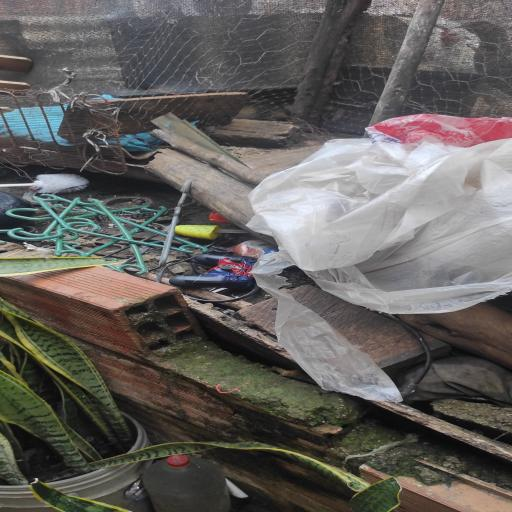ControlPlay4: (169, 254, 257, 291)
